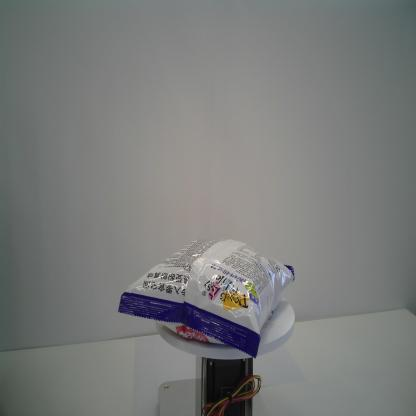Puffed Food: (116, 236, 296, 362)
